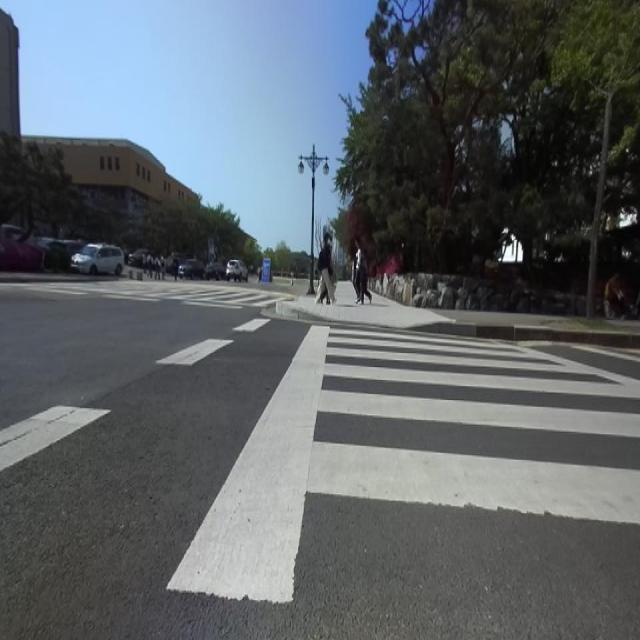sidewalk: (282, 282, 549, 326)
